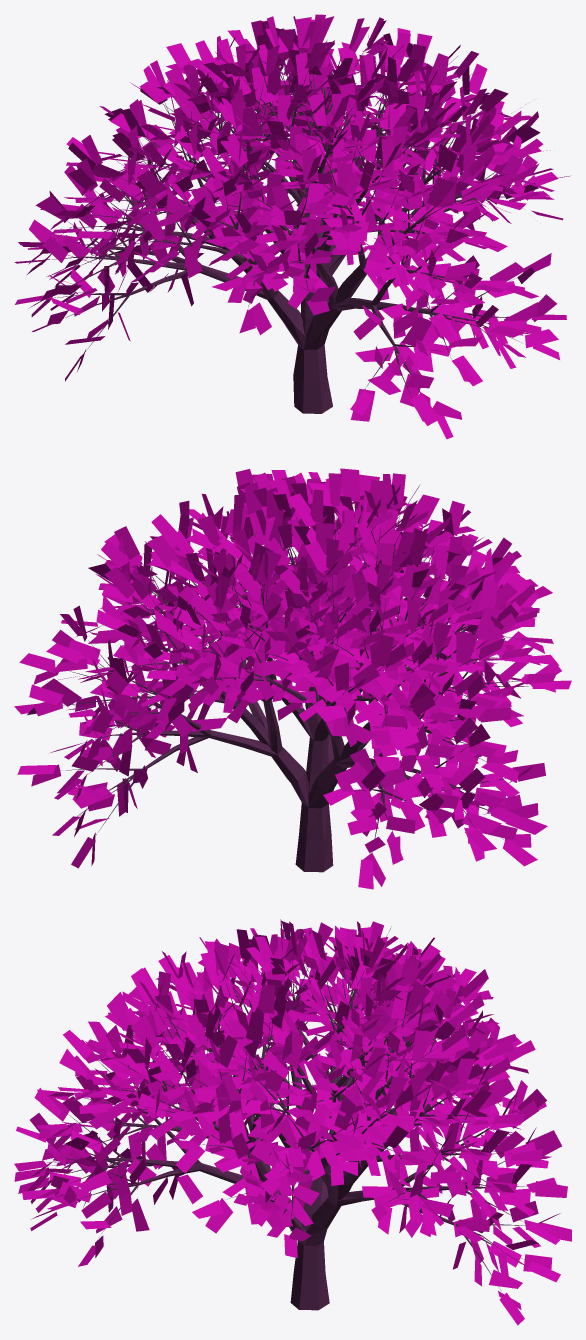
The model's file is 01_treeH_01.fbx.
3 views of the same model, one above another, from view 1: azimuth 30°, elevation 25°; view 2: azimuth 150°, elevation 25°; view 3: azimuth 270°, elevation 25° (orthographic). The views are drawn at different scales.
Visible parts, largest first — view 1: _treeCopaH_01, _treeTroncoH_01; view 2: _treeCopaH_01, _treeTroncoH_01; view 3: _treeCopaH_01, _treeTroncoH_01.
Boxes of the visible parts, left/top/right/bottom form: _treeCopaH_01: left=14, top=14, right=570, bottom=439; _treeTroncoH_01: left=48, top=53, right=525, bottom=413; _treeCopaH_01: left=14, top=468, right=571, bottom=889; _treeTroncoH_01: left=59, top=503, right=534, bottom=872; _treeCopaH_01: left=14, top=919, right=571, bottom=1325; _treeTroncoH_01: left=49, top=957, right=530, bottom=1310.
Bounding box in the file's own units: 1090 × 780 × 1083.
